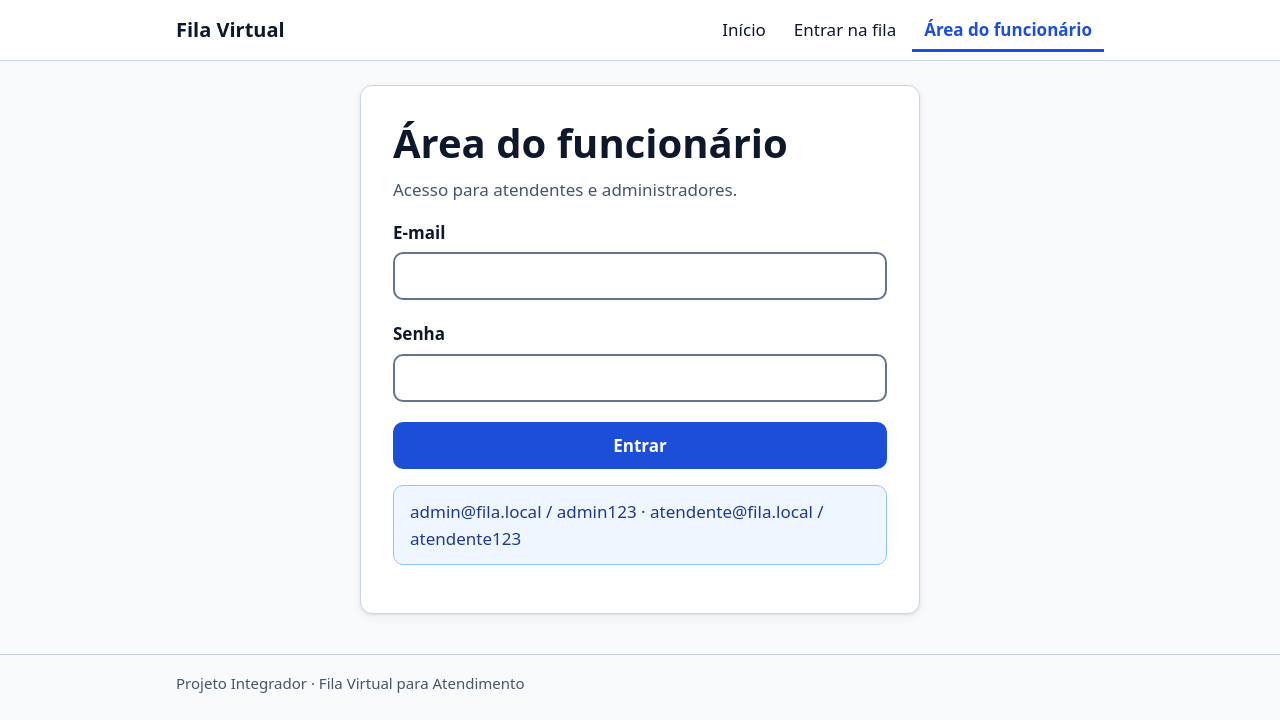
Área do funcionário e rotas protegidas › administrador entra e vê o painel administrativo
The width and height of the screenshot is (1280, 720).
Type "admin@fila.local" into the field labelled "E-mail".
click(640, 276); type("admin@fila.local")  # box x1=393 y1=252 x2=887 y2=300
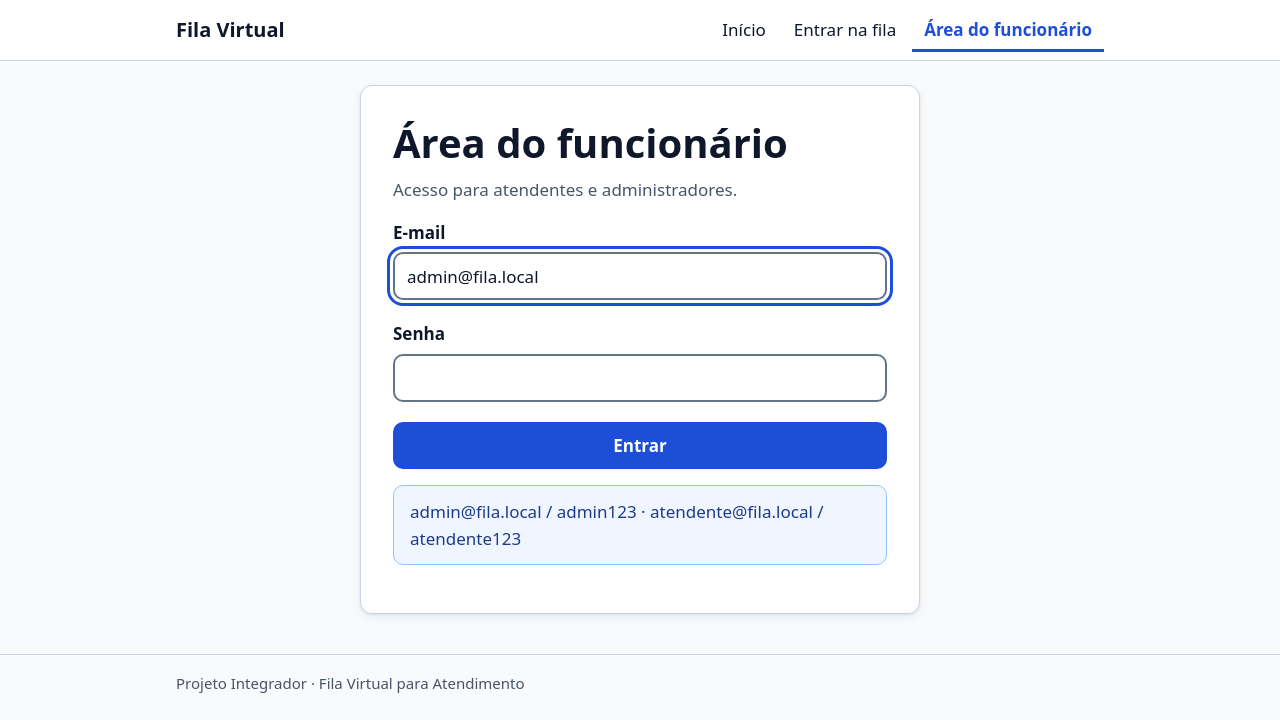
Type "admin123" into the password field labelled "Senha".
click(640, 378); type("admin123")  # box x1=393 y1=354 x2=887 y2=402
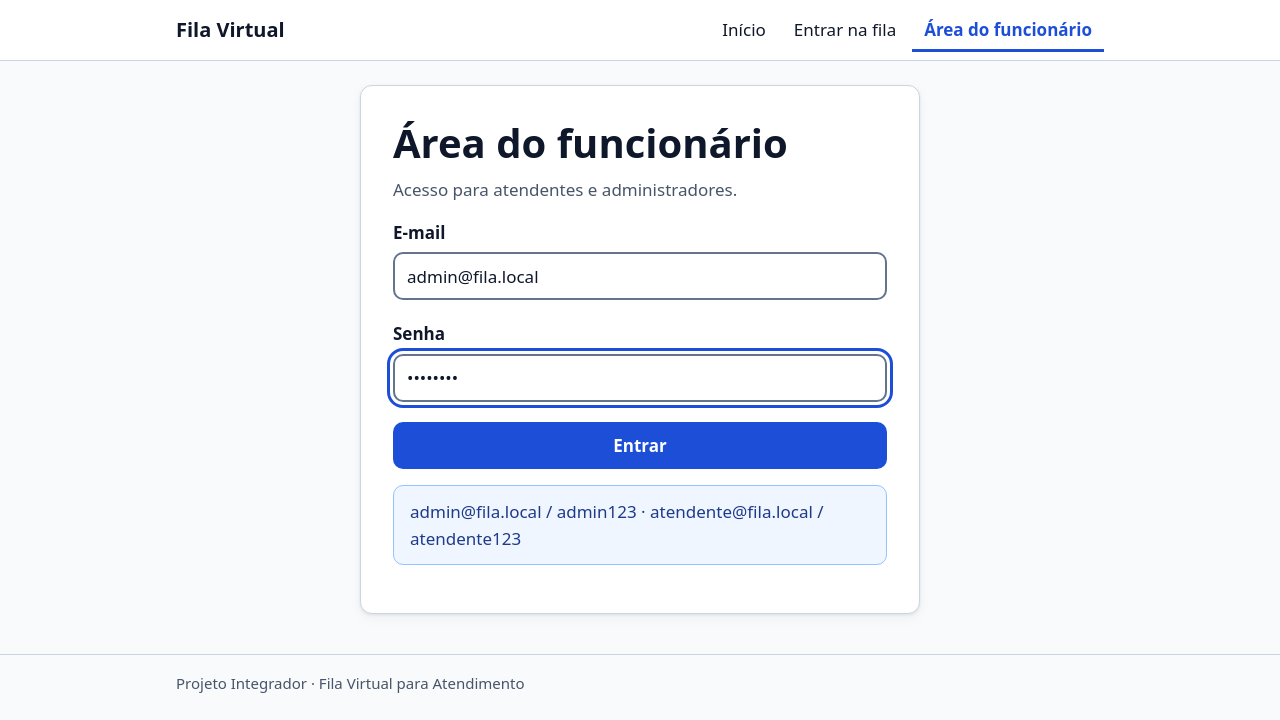
Click the button "Entrar".
click(640, 445)  # box x1=393 y1=422 x2=887 y2=469
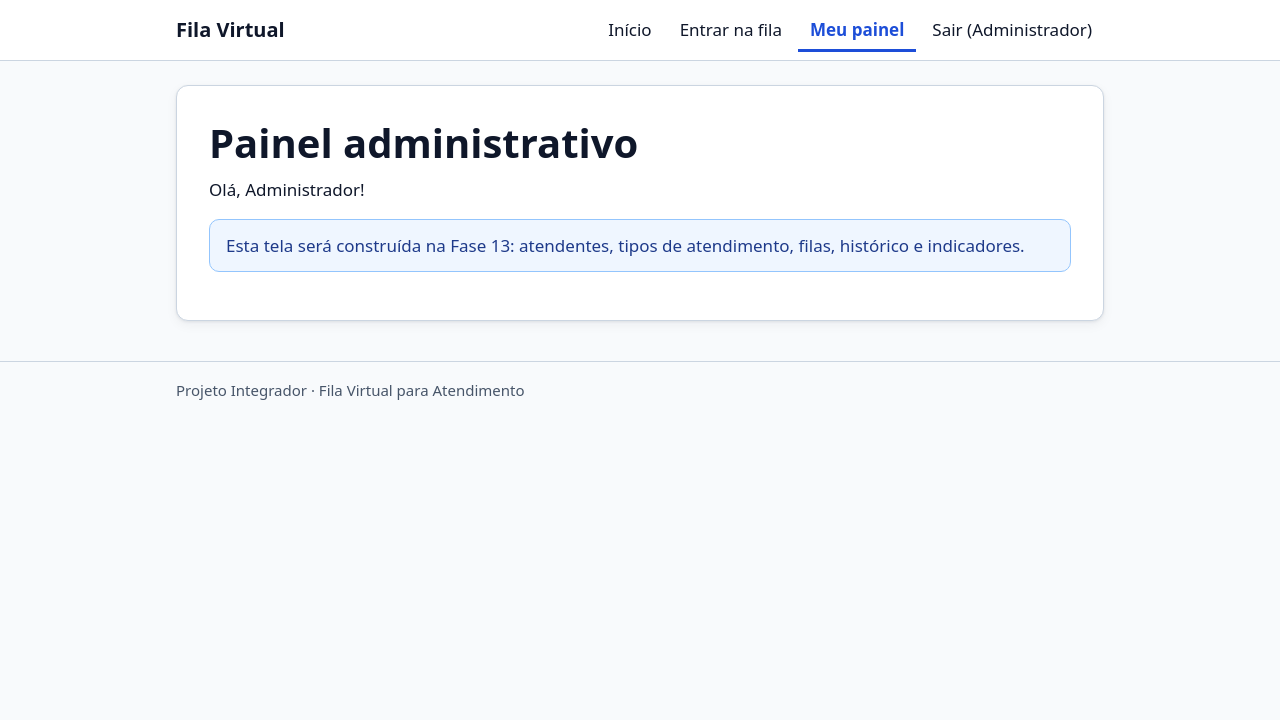
expect the heading "Painel administrativo" is shown: met, box x1=209 y1=115 x2=638 y2=170
expect the button "Sair (Administrador)" is shown: met, box x1=920 y1=8 x2=1104 y2=52
